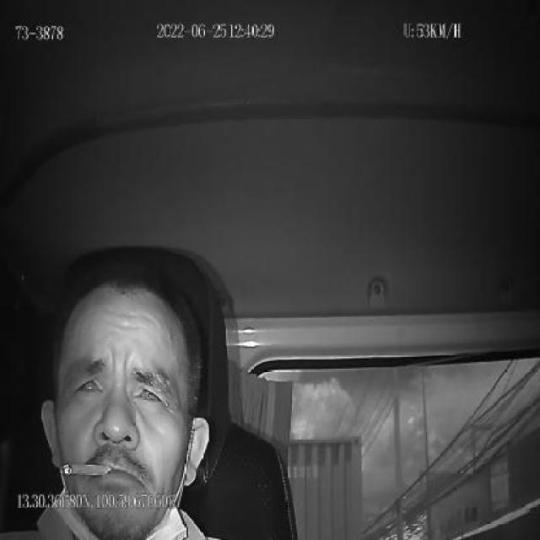smoking: (62, 459, 114, 481)
